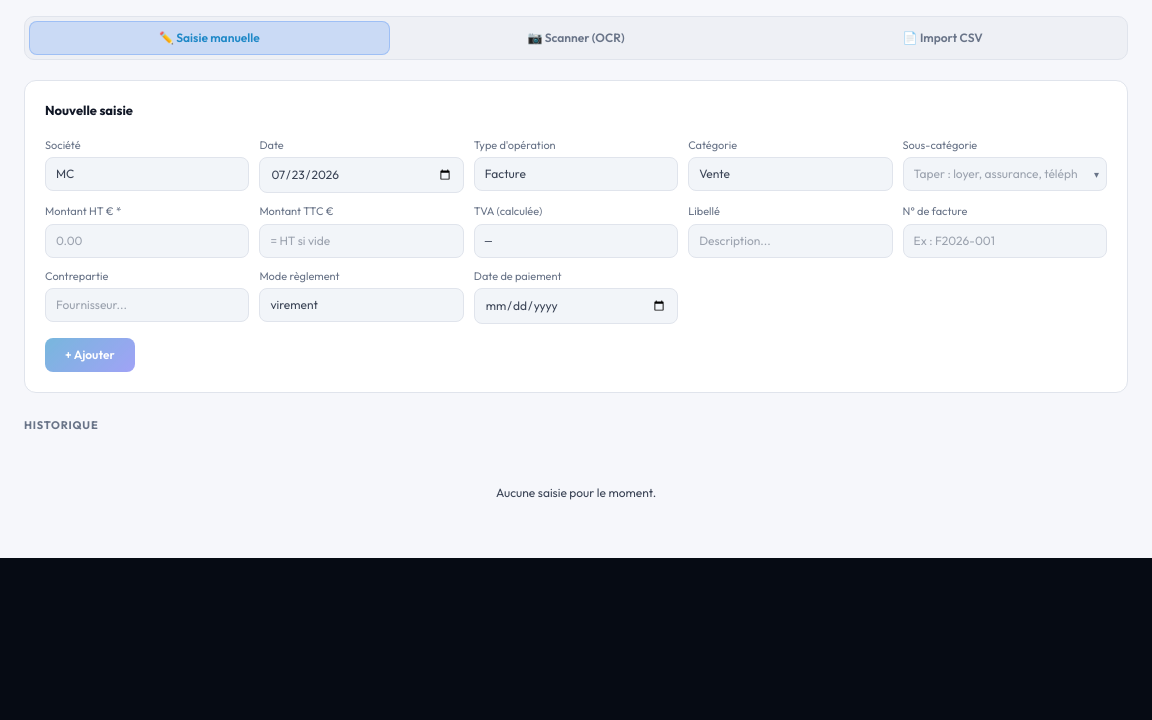
Test case: <Saisie> — smoke + contrat OCR › OCR appelle l'API avec model='claude-opus-4-7' (régression du modèle Claude invalide)
Click the button "📷 Scanner (OCR)" at [576, 38], box [396, 21, 756, 55]
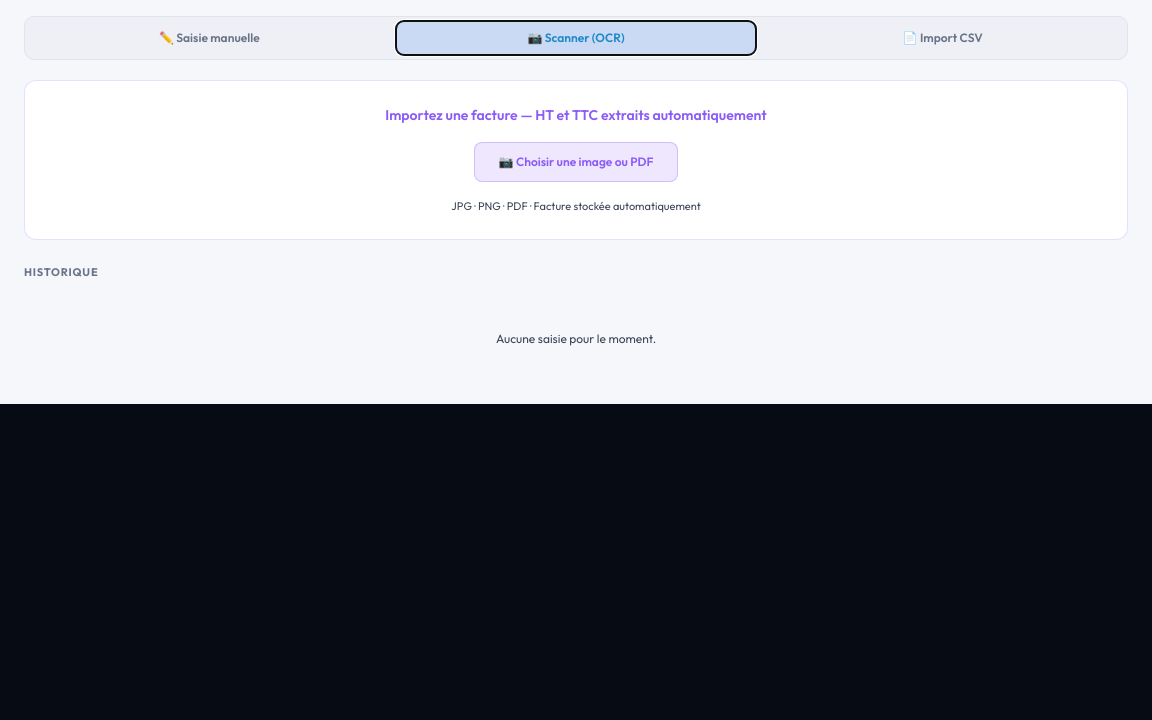
Expected: the file field labelled "📷 Choisir une image ou PDF" is shown, [474, 142, 678, 182]
